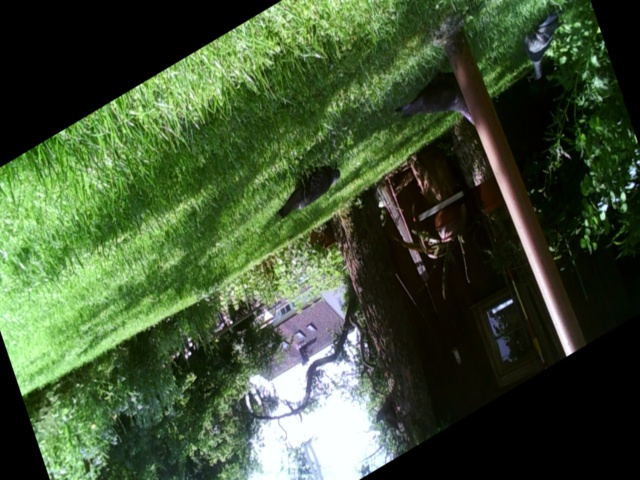Pigeon: (271, 162, 345, 222), (394, 71, 478, 123), (522, 11, 558, 84)
